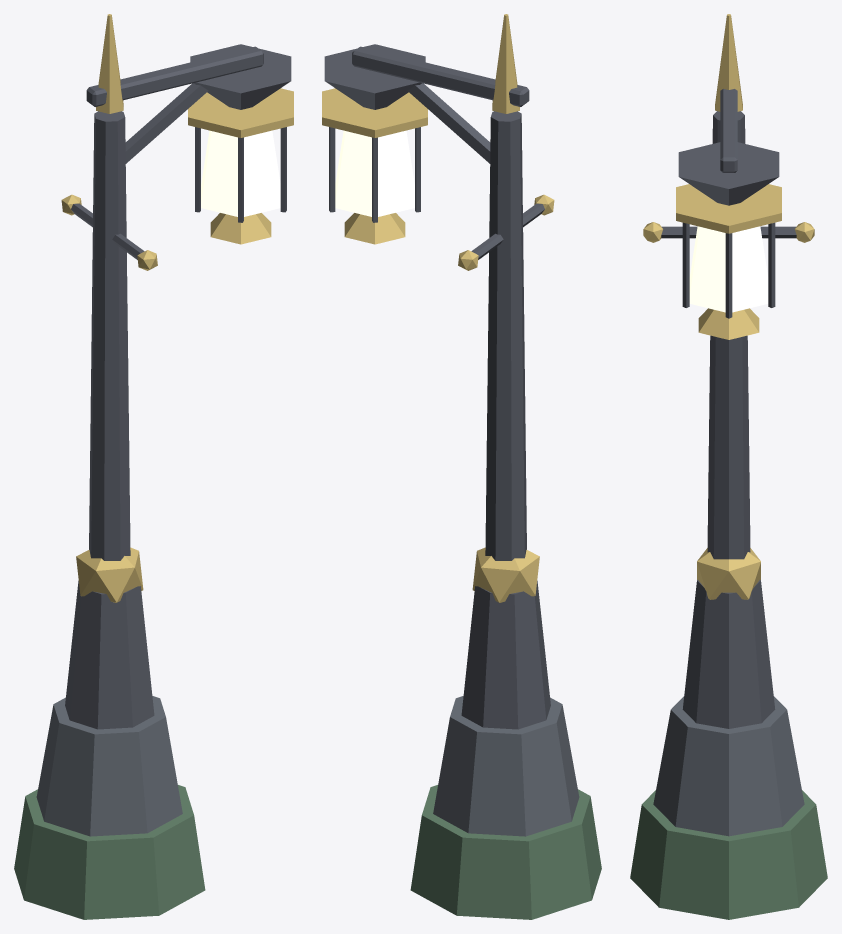
Rendered from outdoor_lamppost.glb.
The picture shows the model from 3 angles, left to right: view 1: azimuth 30°, elevation 25°; view 2: azimuth 150°, elevation 25°; view 3: azimuth 270°, elevation 25°; orthographic projection.
Parts seen in each view (by area): view 1: Outdoor_Lamppost; view 2: Outdoor_Lamppost; view 3: Outdoor_Lamppost.
Part boxes in pixels (x1,y1,x2,y2): Outdoor_Lamppost: (14, 14, 293, 919); Outdoor_Lamppost: (322, 14, 601, 919); Outdoor_Lamppost: (630, 14, 827, 919).
Bounding box in the file's own units: 1.07 × 3.27 × 0.68.
